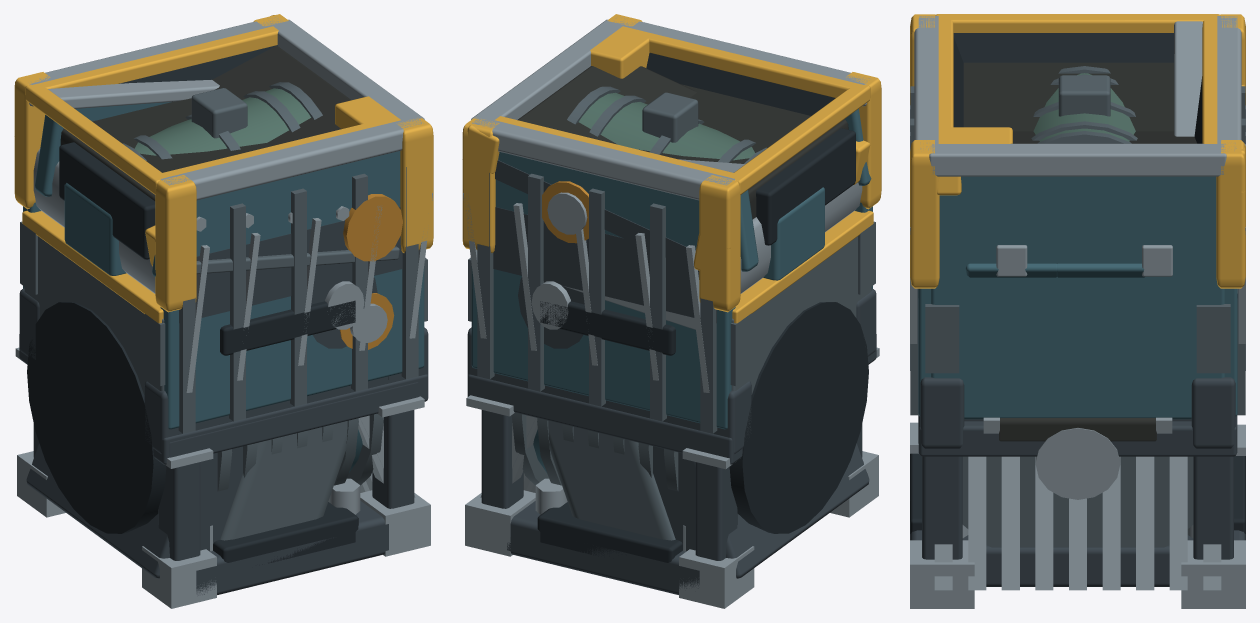
The model's file is industrial.glb.
3 views of the same model, side by side, from view 1: azimuth 30°, elevation 25°; view 2: azimuth 150°, elevation 25°; view 3: azimuth 270°, elevation 25° (orthographic). The views are drawn at different scales.
Visible parts, largest first — view 1: sand_storage, motor, transfer, jaw, frame, screen, washer, jaw_crusher, conveyor; view 2: sand_storage, motor, transfer, jaw, frame, washer, jaw_crusher, conveyor, screen; view 3: sand_storage, frame, jaw_crusher, transfer, jaw, motor, washer, screen, conveyor.
Boxes of the visible parts, bbox=[...] form: sand_storage: bbox=[19, 17, 432, 464]; motor: bbox=[27, 302, 388, 595]; transfer: bbox=[14, 14, 433, 323]; jaw: bbox=[26, 300, 415, 578]; frame: bbox=[17, 221, 430, 608]; screen: bbox=[35, 80, 424, 468]; washer: bbox=[15, 82, 394, 464]; jaw_crusher: bbox=[25, 26, 400, 348]; conveyor: bbox=[14, 15, 402, 266]; sand_storage: bbox=[463, 18, 876, 464]; motor: bbox=[507, 302, 868, 594]; transfer: bbox=[462, 14, 881, 323]; jaw: bbox=[480, 301, 869, 578]; frame: bbox=[465, 221, 878, 608]; washer: bbox=[466, 86, 824, 469]; jaw_crusher: bbox=[495, 26, 870, 348]; conveyor: bbox=[462, 30, 870, 278]; screen: bbox=[542, 109, 879, 358]; sand_storage: bbox=[910, 16, 1245, 456]; frame: bbox=[910, 304, 1245, 608]; jaw_crusher: bbox=[935, 14, 1220, 441]; transfer: bbox=[910, 14, 1245, 297]; jaw: bbox=[910, 453, 1245, 590]; motor: bbox=[910, 428, 1245, 586]; washer: bbox=[996, 66, 1245, 455]; screen: bbox=[910, 21, 1245, 453]; conveyor: bbox=[937, 85, 1245, 195].
Size of the model in its own units: 1 by 1.5 by 1.
